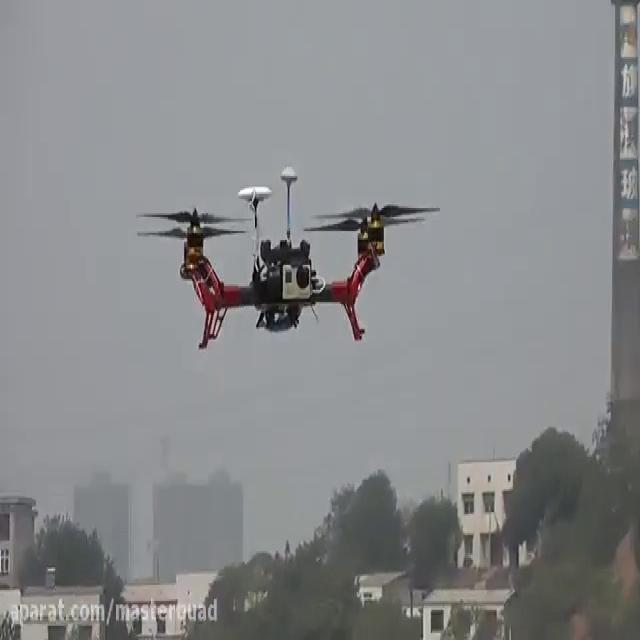drone: (134, 160, 442, 352)
